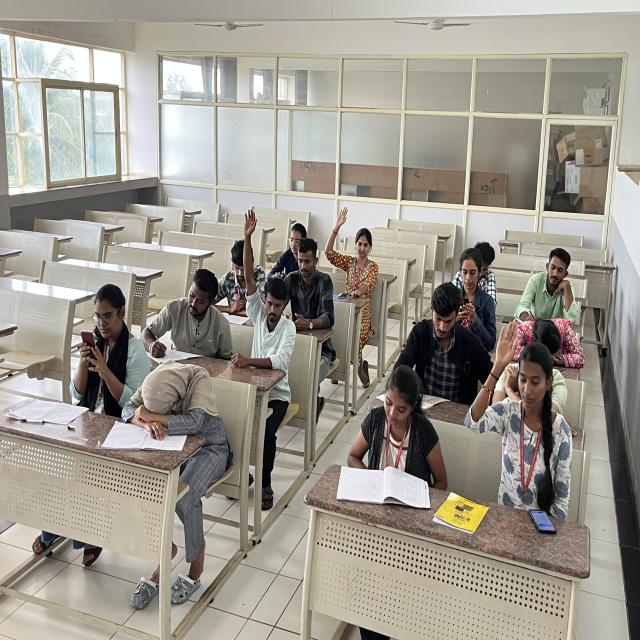Hand Rising: (466, 321, 576, 471), (236, 196, 294, 381), (324, 208, 375, 293)
Reading: (342, 369, 428, 504), (401, 280, 462, 414), (207, 240, 261, 326)
Sleeping: (120, 349, 232, 436), (508, 312, 590, 373)
Using Phone: (70, 285, 143, 397), (450, 246, 495, 338), (268, 222, 310, 282)
Writing: (134, 255, 232, 361), (514, 246, 578, 322)
